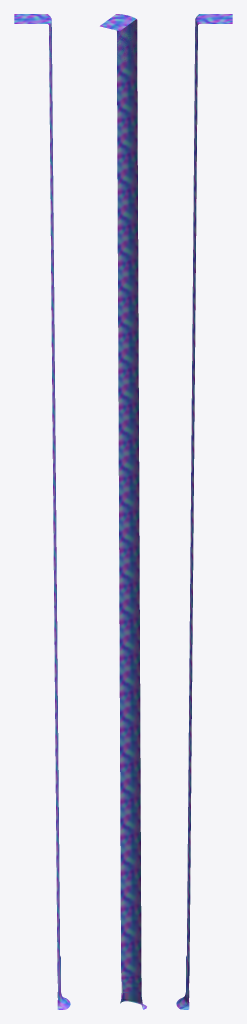
File: VFX_WaterCascadeVertical01.fbx
3 views of the same model, side by side, from view 1: azimuth 90°, elevation 25°; view 2: azimuth 150°, elevation 25°; view 3: azimuth 270°, elevation 25° (orthographic).
Parts seen in each view (by area): view 1: CascadeVFX02, CascadeVFX02Foam; view 2: CascadeVFX02, CascadeVFX02FoamTop; view 3: CascadeVFX02, CascadeVFX02Foam.
Part boxes in pixels (left/top/right/bottom): CascadeVFX02: left=14, top=14, right=67, bottom=1009; CascadeVFX02Foam: left=57, top=956, right=70, bottom=1009; CascadeVFX02: left=100, top=14, right=146, bottom=1006; CascadeVFX02FoamTop: left=117, top=21, right=137, bottom=69; CascadeVFX02: left=179, top=14, right=232, bottom=1009; CascadeVFX02Foam: left=176, top=956, right=189, bottom=1009.
Bounding box in the file's own units: 147 × 5448 × 281.
